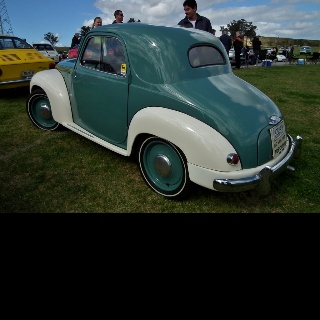without_mask: (183, 5, 194, 18), (77, 34, 80, 38), (235, 33, 238, 37), (273, 48, 275, 51)
